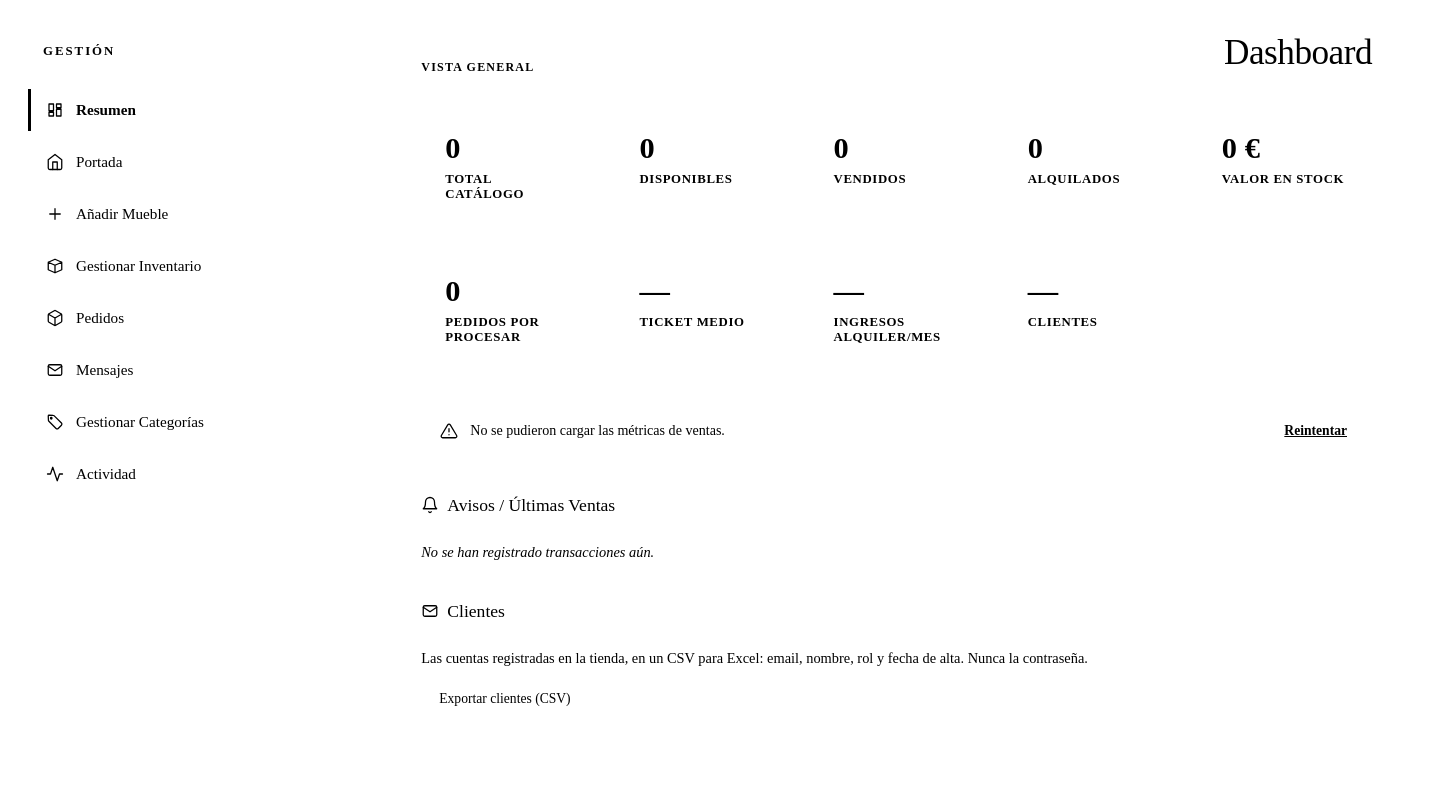
Test case: Modal de edición de categoría › sin imagen nueva, manda nombre, general e imagen_url; avisa, cierra y recarga las categorías
This screenshot has width=1440, height=793.
Click the button "Gestionar Categorías" at x=185, y=422, box [28,401,341,443]
(page scrolled)
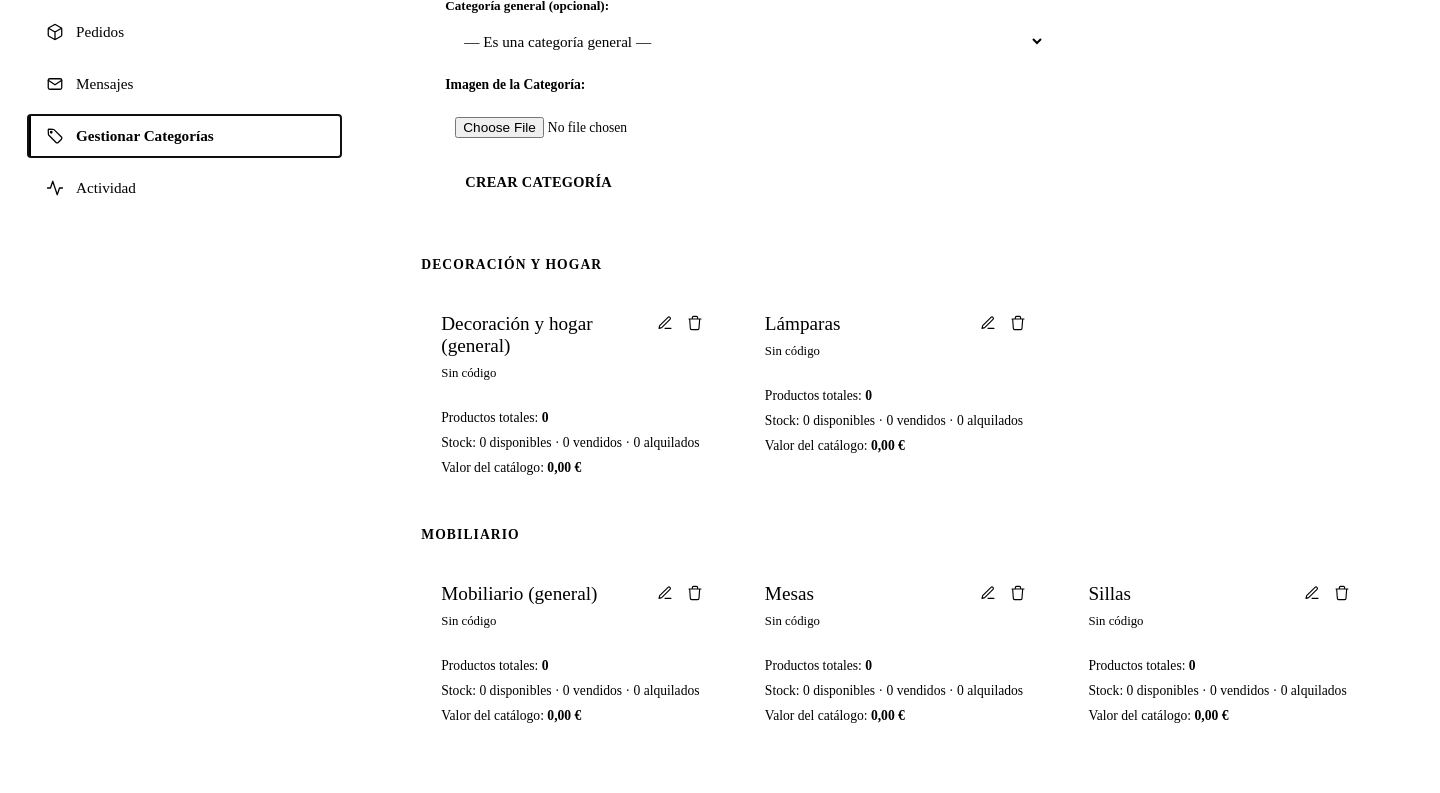
Click the button named "Editar" in the row of "Mesas" at x=988, y=593, box [978,583,998,603]
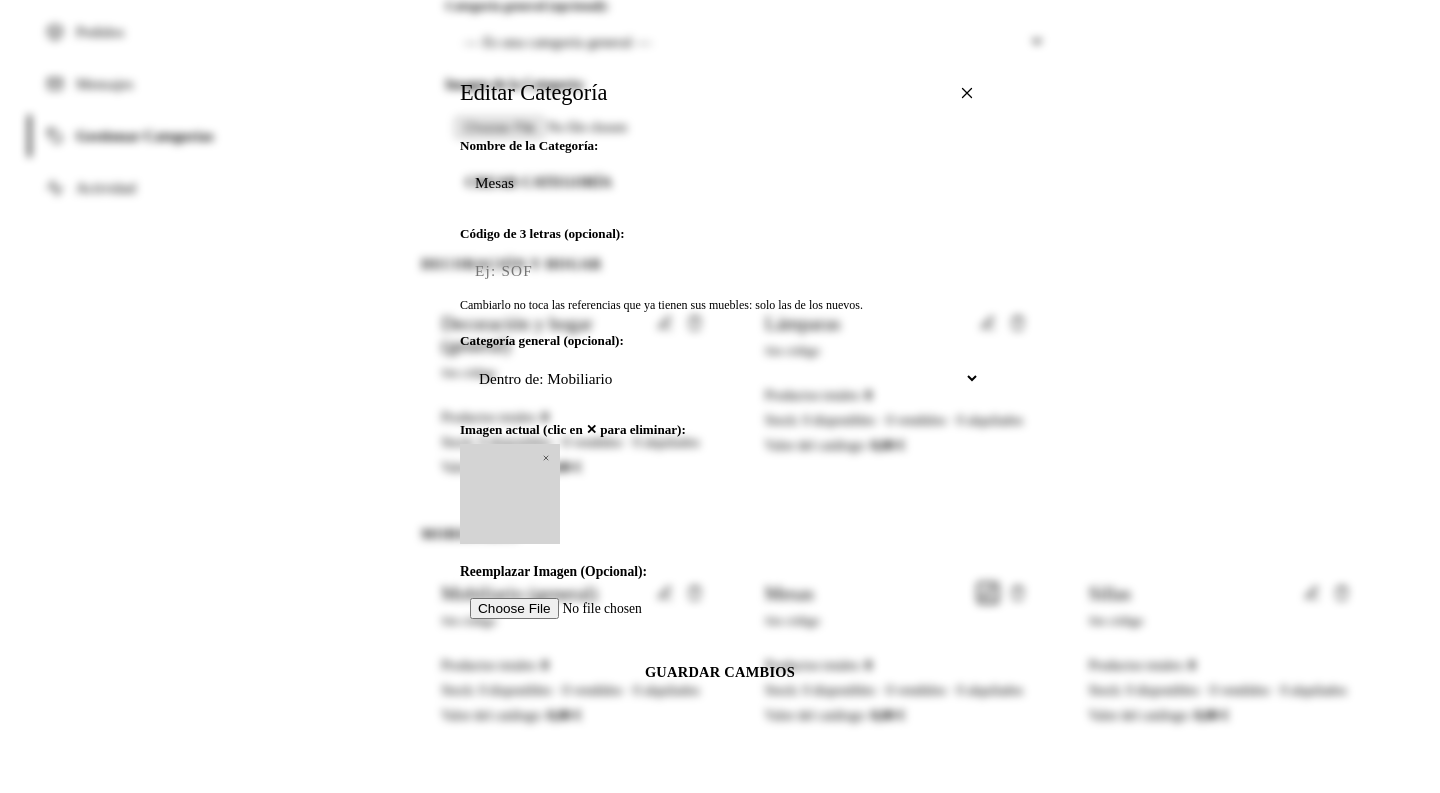
Replace the text in the 1st field with "Mesas y consolas" at x=720, y=183, box [460,160,980,206]
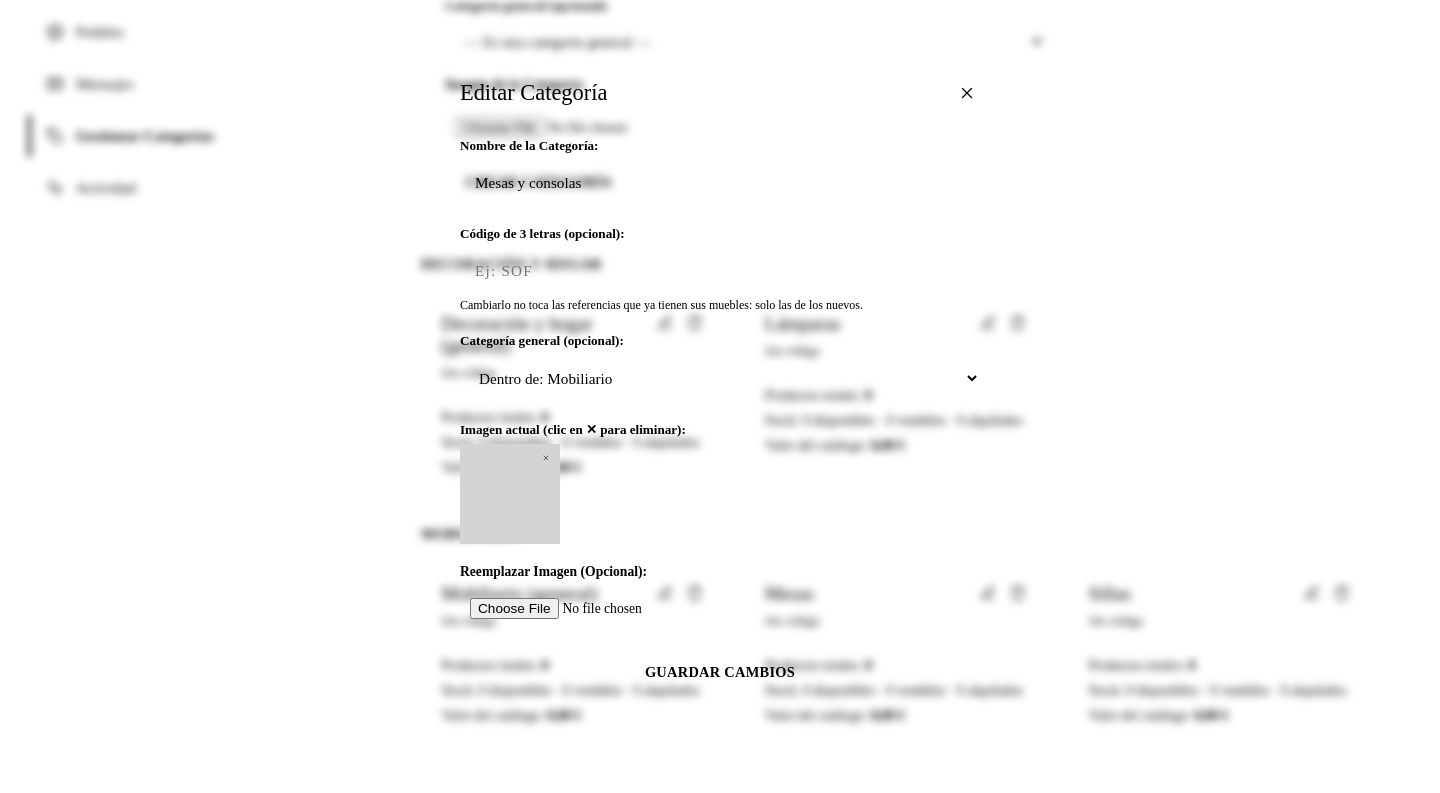
Click the button "Guardar Cambios" at x=720, y=672, box [460,649,980,696]
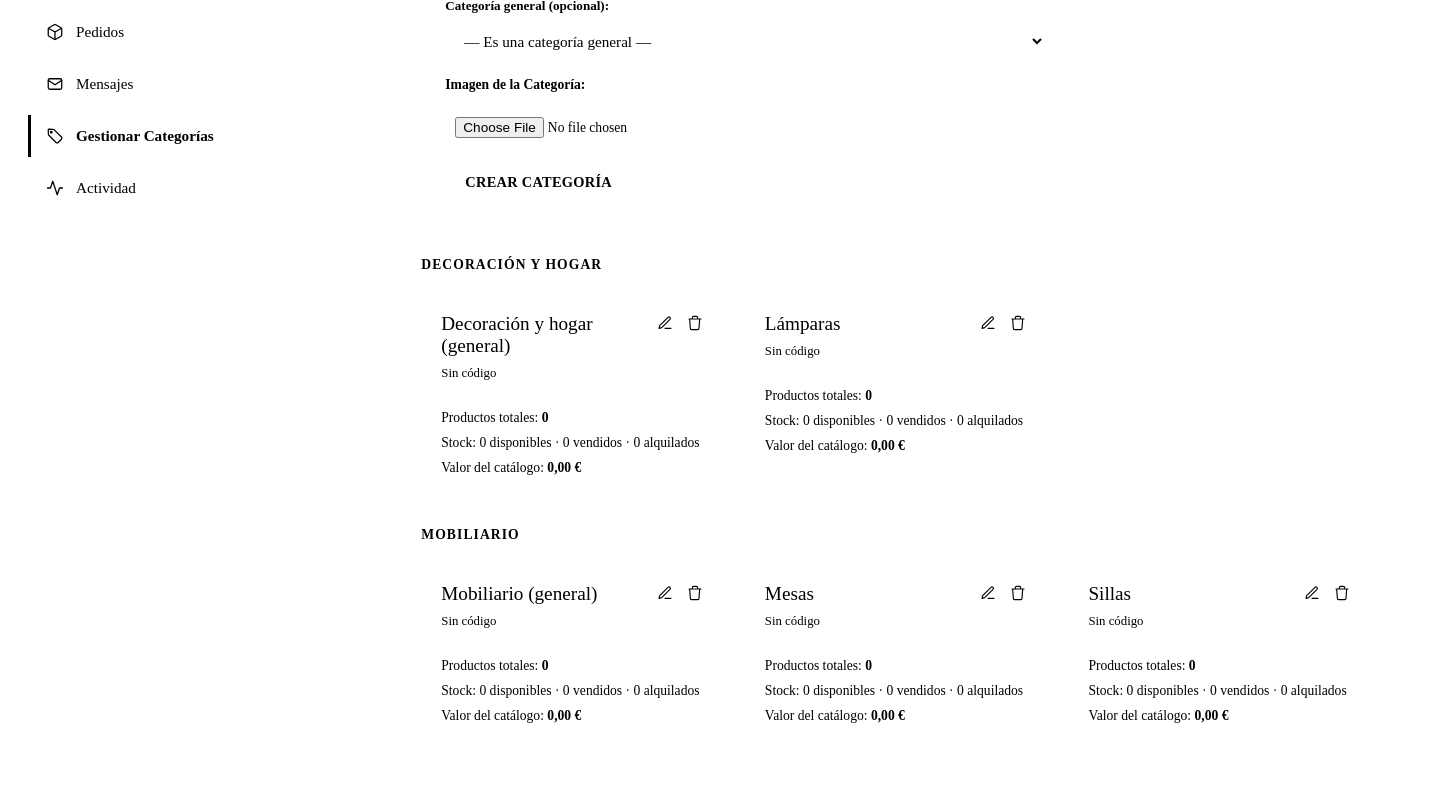
Now the heading "Editar Categoría" is gone
